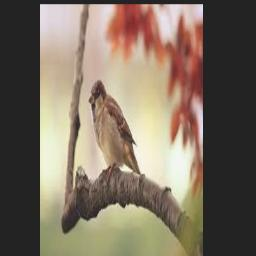Sparrow: (89, 80, 141, 175)
